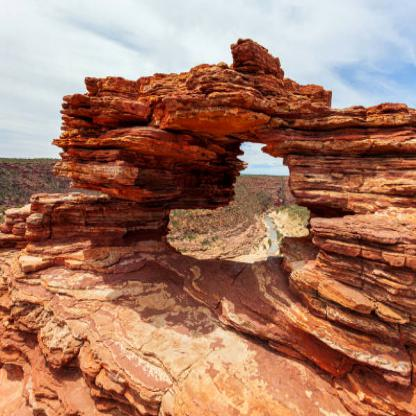Sedimentary_Sandstone: (291, 110, 415, 353), (59, 89, 206, 172), (150, 73, 314, 139), (25, 194, 166, 242)
